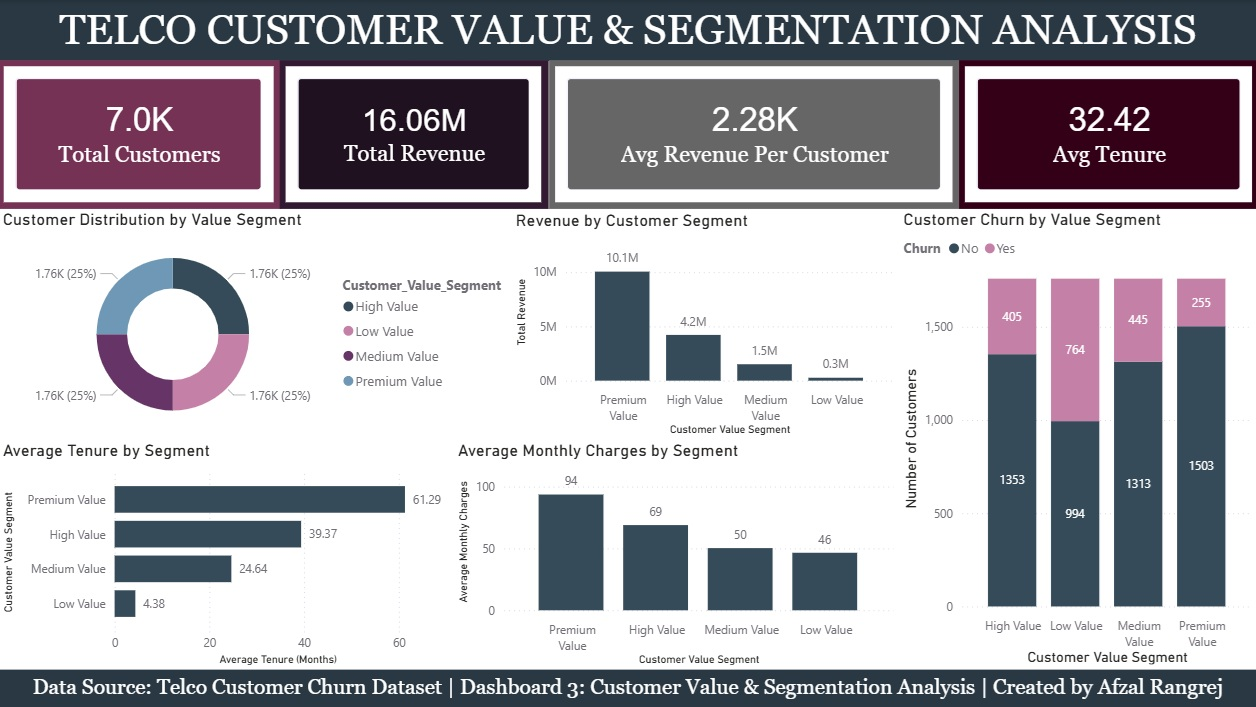

Layout of this report page (visuals, bound fields, positions):
{"tool":"powerbi","page":{"name":"Page 3","canvas":[1280,720],"ordinal":2},"visuals":[{"type":"textbox","box":[0,0,1279.8,61.7],"z":0},{"type":"cardVisual","fields":{"Data":["Telco_Customer_churn_feature_engineered.Total Customers"]},"box":[0,61.7,286.9,150.6],"z":1000},{"type":"cardVisual","fields":{"Data":["Telco_Customer_churn_feature_engineered.Total Revenue"]},"box":[286.9,61.7,272.6,150.6],"z":2000},{"type":"cardVisual","fields":{"Data":["Telco_Customer_churn_feature_engineered.Avg Revenue Per Customer"]},"box":[560,61.5,416.2,150.8],"z":3000},{"type":"cardVisual","fields":{"Data":["Telco_Customer_churn_feature_engineered.Avg Tenure"]},"box":[975.6,61.7,304.2,150.6],"z":4000},{"type":"donutChart","title":"Customer Distribution by Value Segment","fields":{"Category":["Telco_Customer_churn_feature_engineered.Customer_Value_Segment"],"Y":["CountNonNull(Telco_Customer_churn_feature_engineered.customerID)"]},"box":[0,212.3,520.9,234.6],"z":5000},{"type":"clusteredColumnChart","title":"Revenue by Customer Segment","fields":{"Category":["Telco_Customer_churn_feature_engineered.Customer_Value_Segment"],"Y":["Sum(Telco_Customer_churn_feature_engineered.TotalCharges)"]},"box":[520.9,213.7,393.8,233.2],"z":6000},{"type":"clusteredBarChart","title":"Average Tenure by Segment","fields":{"Category":["Telco_Customer_churn_feature_engineered.Customer_Value_Segment"],"Y":["Avg(Telco_Customer_churn_feature_engineered.tenure)"]},"box":[0,446.9,462.3,233.2],"z":7000},{"type":"columnChart","title":"Customer Churn by Value Segment","fields":{"Category":["Telco_Customer_churn_feature_engineered.Customer_Value_Segment"],"Y":["CountNonNull(Telco_Customer_churn_feature_engineered.customerID)"],"Series":["Telco_Customer_churn_feature_engineered.Churn"]},"box":[914.8,212.3,364.5,467.9],"z":8000},{"type":"clusteredColumnChart","title":"Average Monthly Charges by Segment","fields":{"Category":["Telco_Customer_churn_feature_engineered.Customer_Value_Segment"],"Y":["Avg(Telco_Customer_churn_feature_engineered.MonthlyCharges)"]},"box":[462.3,446.9,452.5,233.2],"z":9000},{"type":"textbox","box":[0,680.2,1279.3,40.5],"z":10000}]}

Visuals, with their boxes in screenshot pixels (x1, y1, x2, y2), scaled from the page's 1280x720 canvas onto the 1256x707 screenshot:
textbox: Rect(0, 0, 1255, 61)
cardVisual - Telco_Customer_churn_feature_engineered.Total Customers: Rect(0, 61, 282, 208)
cardVisual - Telco_Customer_churn_feature_engineered.Total Revenue: Rect(282, 61, 549, 208)
cardVisual - Telco_Customer_churn_feature_engineered.Avg Revenue Per Customer: Rect(550, 60, 958, 208)
cardVisual - Telco_Customer_churn_feature_engineered.Avg Tenure: Rect(957, 61, 1255, 208)
"Customer Distribution by Value Segment" donutChart: Rect(0, 208, 511, 439)
"Revenue by Customer Segment" clusteredColumnChart: Rect(511, 210, 898, 439)
"Average Tenure by Segment" clusteredBarChart: Rect(0, 439, 454, 668)
"Customer Churn by Value Segment" columnChart: Rect(898, 208, 1255, 668)
"Average Monthly Charges by Segment" clusteredColumnChart: Rect(454, 439, 898, 668)
textbox: Rect(0, 668, 1255, 706)
